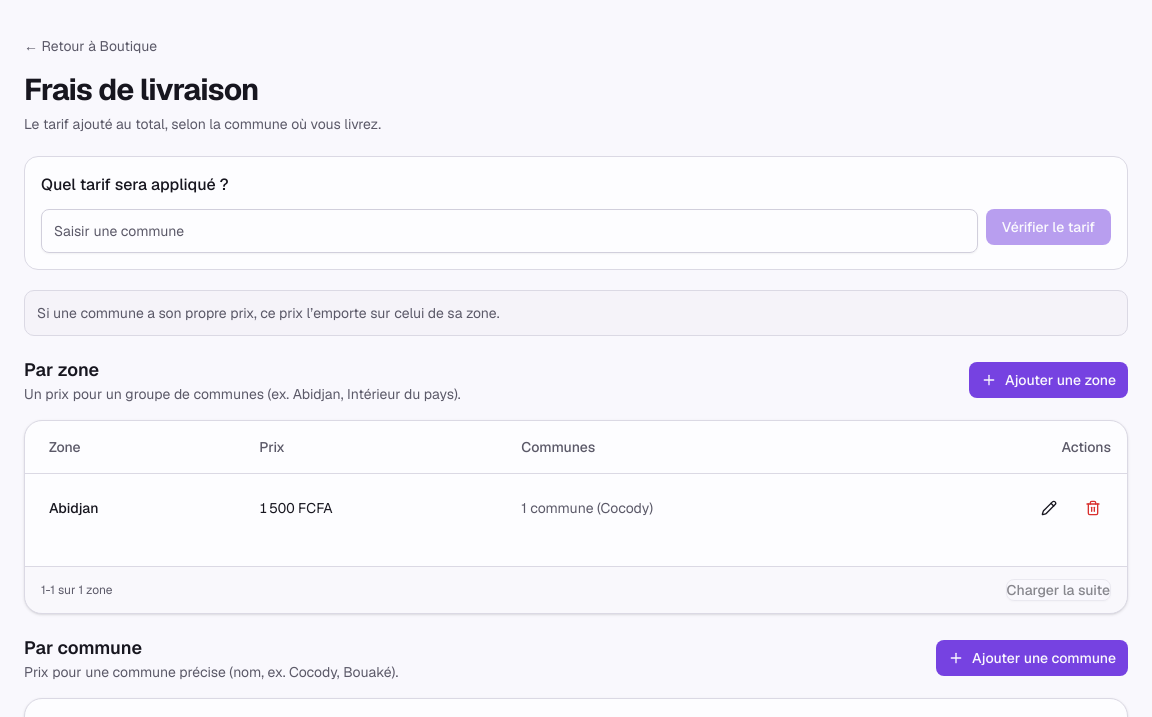
Scenario: DeliveryFeesContent › réaffiche en francs le prix stocké en centimes
The width and height of the screenshot is (1152, 717).
Click the button named "Modifier": (1049, 508) [1031, 490, 1067, 526]
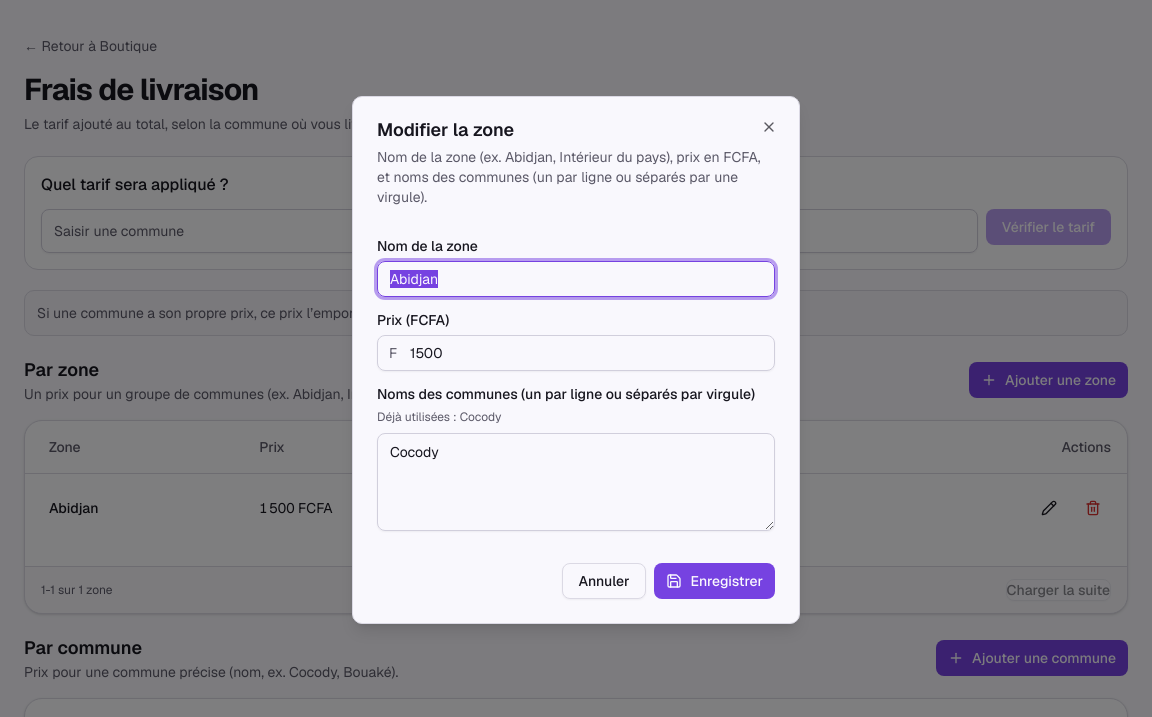
Result: the field labelled "Prix (FCFA)" holds "1500" at [377, 335, 775, 371]
